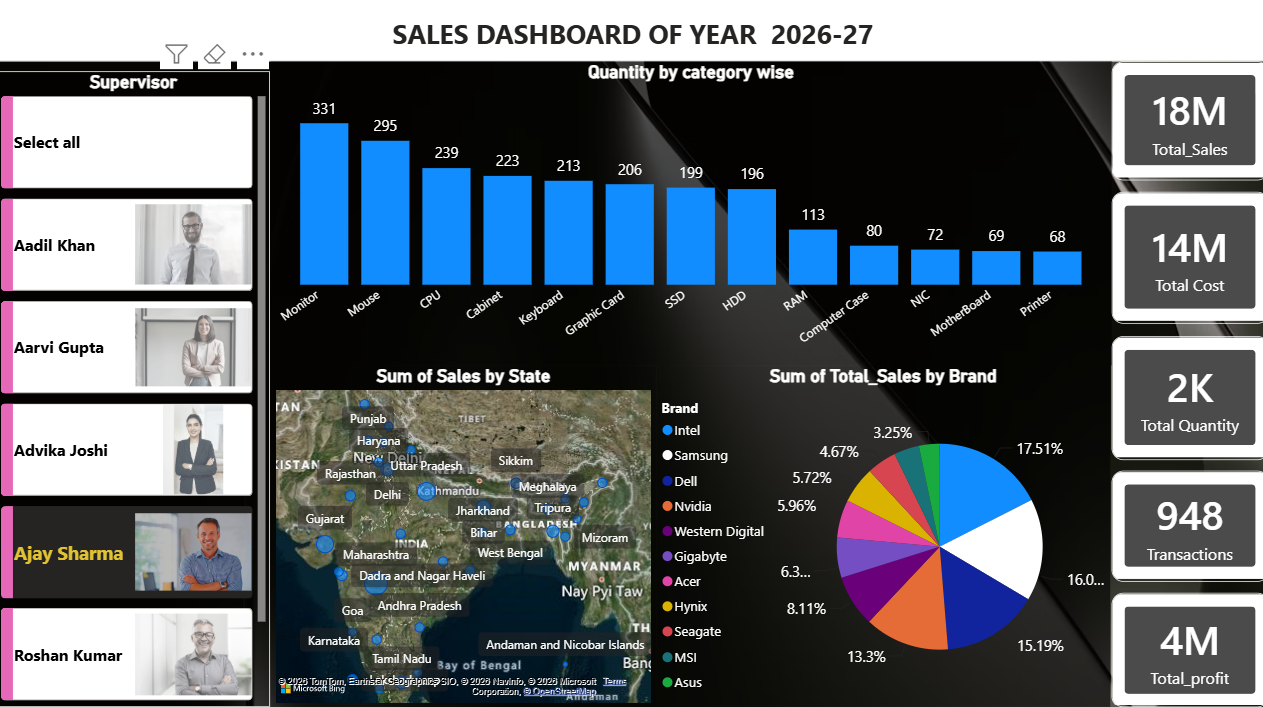

What the dashboard file says about the page in this screenshot:
{"tool":"powerbi","page":{"name":"Page 1","canvas":[1280,720],"ordinal":0},"visuals":[{"type":"textbox","box":[0,0,1280,70],"z":0},{"type":"cardVisual","fields":{"Data":["Sum(Sales_Data.Total_Sales)"]},"box":[1121.8,70.4,158.9,119.5],"z":1000},{"type":"cardVisual","fields":{"Data":["CountNonNull(Sales_Data.Order_Number)"]},"box":[1121.8,481.5,158.9,111.4],"z":2000},{"type":"cardVisual","fields":{"Data":["Sum(Sales_Data.Quantity)"]},"box":[1121.8,345.5,158.9,124.5],"z":3000},{"type":"cardVisual","fields":{"Data":["Sum(Sales_Data.Total_Cost)"]},"box":[1121.8,201.4,158.9,132.6],"z":4000},{"type":"cardVisual","fields":{"Data":["Sales_Data.Total_profit"]},"box":[1121.8,604.3,158.9,116.3],"z":5000},{"type":"clusteredColumnChart","title":"Quantity by category wise","fields":{"Y":["Sum(Sales_Data.Quantity)"],"Category":["Sales_Data.Category"]},"box":[276.2,69.7,845.3,305.5],"z":6000},{"type":"pieChart","fields":{"Y":["Sum(Sales_Data.Total_Sales)"],"Category":["Sales_Data.Brand"]},"box":[664,375.2,456.1,344.5],"z":7000},{"type":"map","fields":{"Category":["State_list.State"],"Size":["Sum(Sales_Data.Sales)"]},"box":[276.2,375.2,387.8,344.5],"z":8000},{"type":"advancedSlicerVisual","fields":{"Values":["Supervisor.Supervisor"]},"box":[0,79.5,276.2,640.3],"z":9000}]}

Visuals, with their boxes in screenshot pixels (x1, y1, x2, y2):
textbox: <bbox>0, 0, 1262, 60</bbox>
cardVisual - Sum(Sales_Data.Total_Sales): <bbox>1107, 61, 1262, 181</bbox>
cardVisual - CountNonNull(Sales_Data.Order_Number): <bbox>1107, 474, 1262, 586</bbox>
cardVisual - Sum(Sales_Data.Quantity): <bbox>1107, 337, 1262, 462</bbox>
cardVisual - Sum(Sales_Data.Total_Cost): <bbox>1107, 192, 1262, 326</bbox>
cardVisual - Sales_Data.Total_profit: <bbox>1107, 597, 1262, 706</bbox>
"Quantity by category wise" clusteredColumnChart: <bbox>258, 60, 1106, 367</bbox>
pieChart - Sum(Sales_Data.Total_Sales) x Sales_Data.Brand: <bbox>647, 367, 1105, 706</bbox>
map - State_list.State x Sum(Sales_Data.Sales): <bbox>258, 367, 647, 706</bbox>
advancedSlicerVisual - Supervisor.Supervisor: <bbox>0, 70, 258, 706</bbox>
